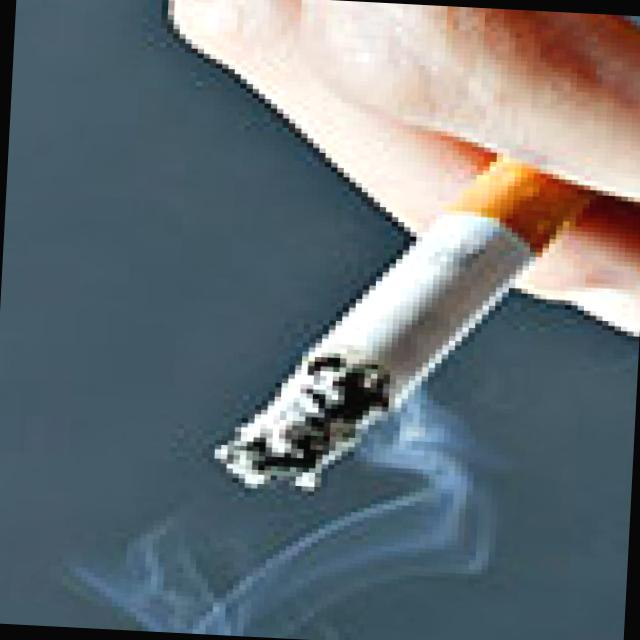cigarette: (208, 128, 604, 508)
